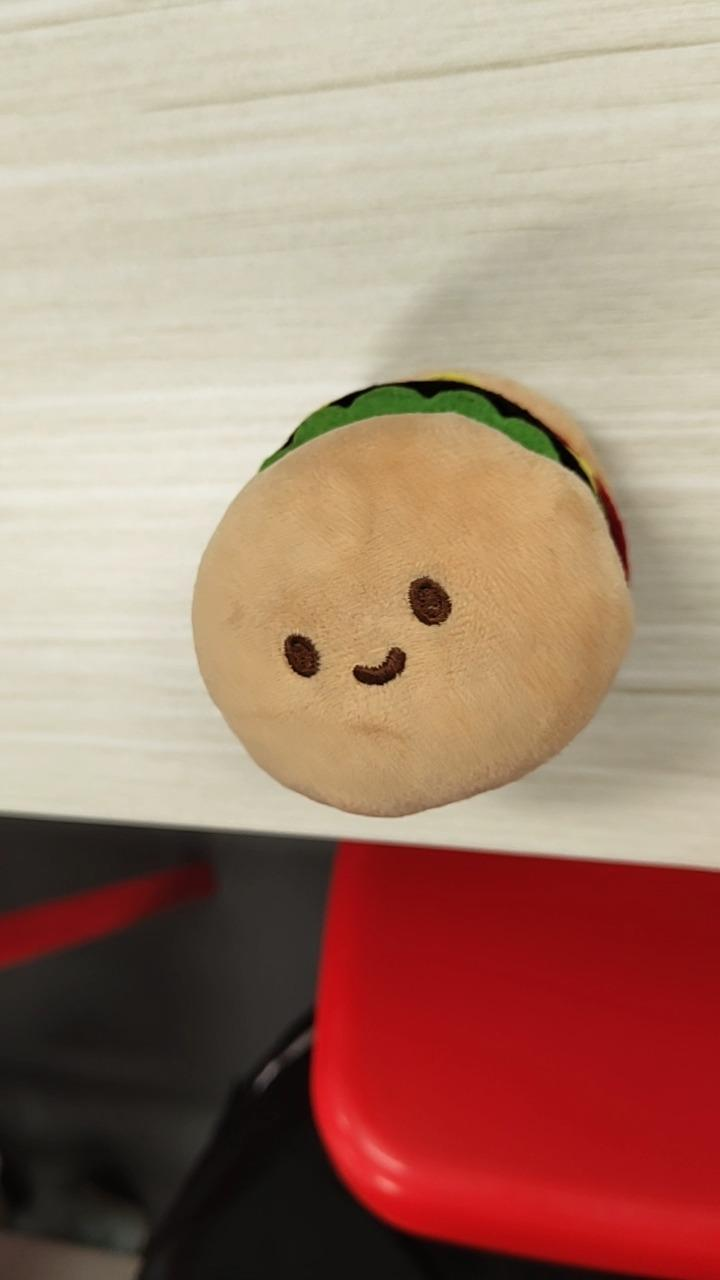hamburger: (189, 368, 635, 819)
